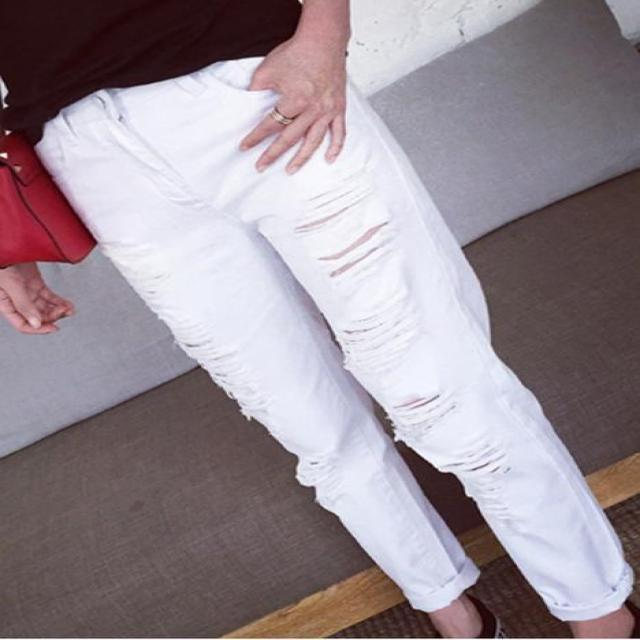trousers: (35, 80, 636, 606)
